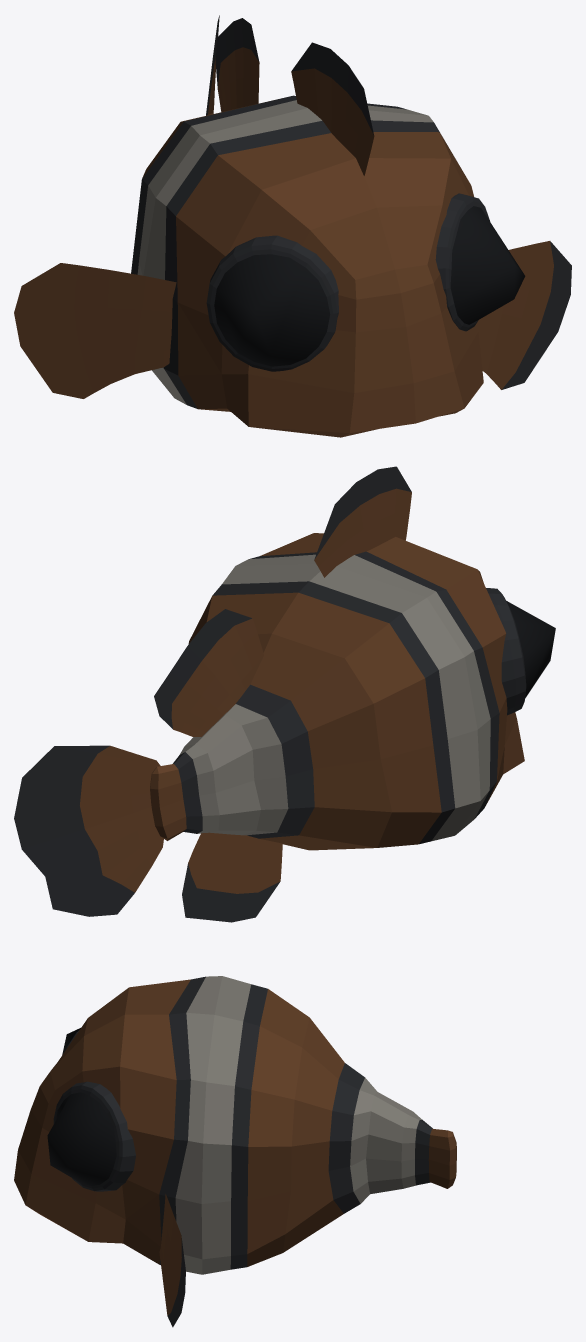
File: cc0-clownfish-lod1.glb
3 views of the same model, one above another, from view 1: azimuth 30°, elevation 25°; view 2: azimuth 150°, elevation 25°; view 3: azimuth 270°, elevation 25° (orthographic). The views are drawn at different scales.
Parts seen in each view (by area): view 1: part_0; view 2: part_0; view 3: part_0.
Part boxes in pixels (x1,y1,x2,y2): part_0: (14,15,571,437); part_0: (14,466,555,922); part_0: (14,976,456,1327).
Bounding box in the file's own units: 4.34 × 3.07 × 5.03.
